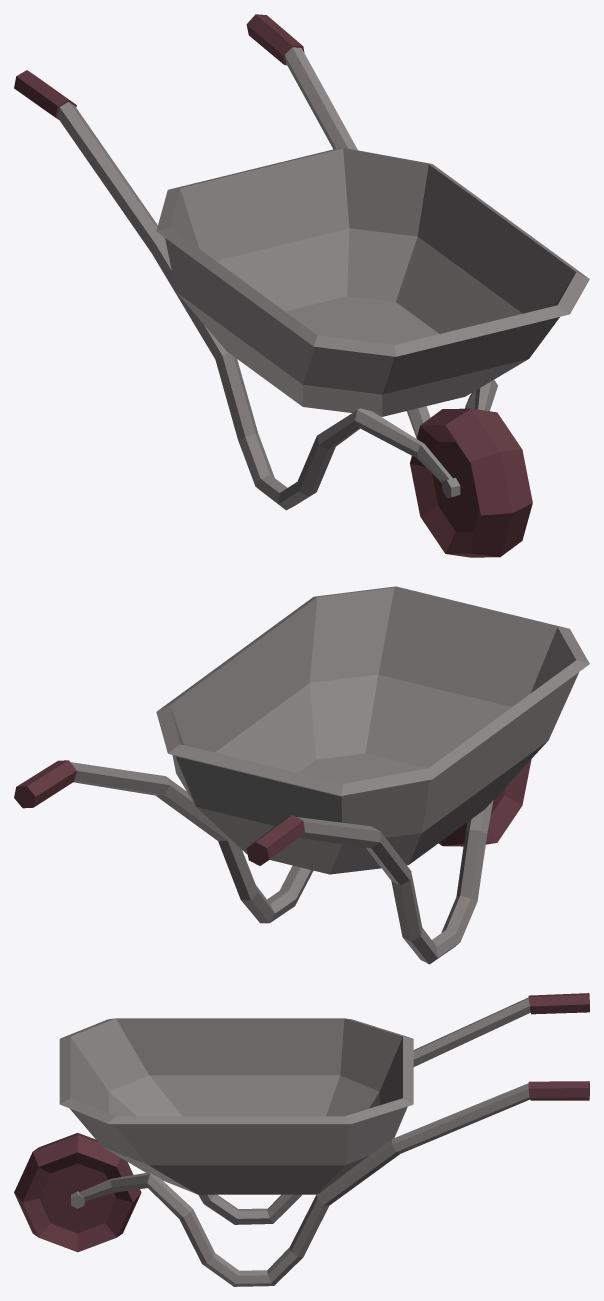
Rendered from tools-wheelbarrow.glb.
3 views of the same model, one above another, from view 1: azimuth 30°, elevation 25°; view 2: azimuth 150°, elevation 25°; view 3: azimuth 270°, elevation 25° (orthographic). The views are drawn at different scales.
Visible parts, largest first — view 1: wheelbarrow; view 2: wheelbarrow; view 3: wheelbarrow.
Boxes of the visible parts, left/top/right/bottom form: wheelbarrow: left=14, top=14, right=589, bottom=557; wheelbarrow: left=14, top=586, right=589, bottom=964; wheelbarrow: left=14, top=993, right=589, bottom=1286.
Size of the model in its own units: 0.6204 by 0.6005 by 1.44.
